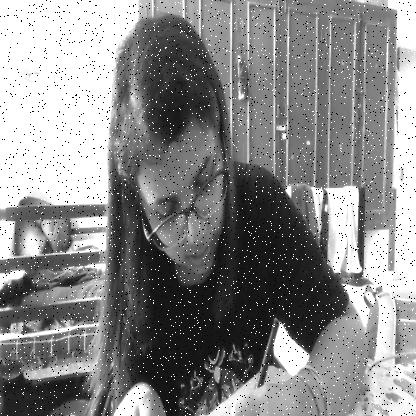Distracted: (116, 20, 226, 294)
